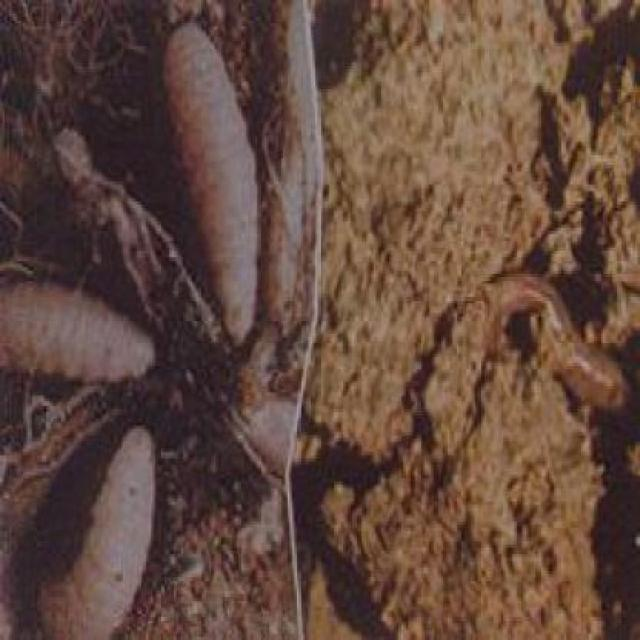whorl-maggot: (154, 17, 260, 353), (31, 417, 161, 638), (1, 276, 159, 383)
